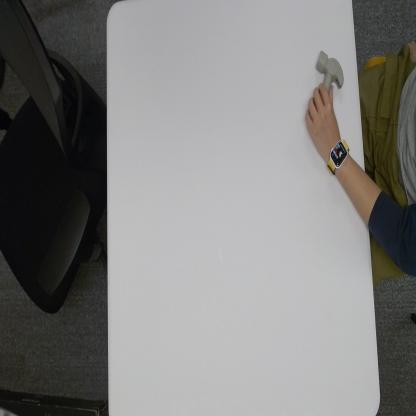Arm: (344, 158, 368, 232)
Hammer: (315, 50, 345, 96)
Hand: (306, 82, 340, 150)
